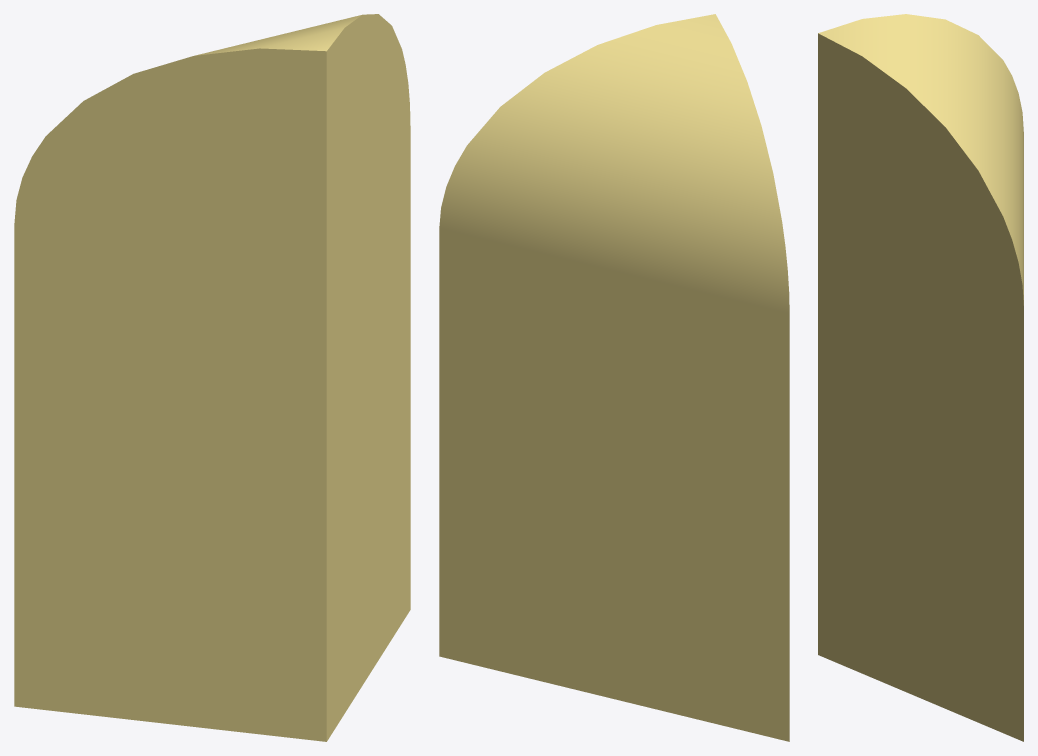
File: Corner_Corner.glb
3 views of the same model, side by side, from view 1: azimuth 30°, elevation 25°; view 2: azimuth 150°, elevation 25°; view 3: azimuth 270°, elevation 25° (orthographic). The views are drawn at different scales.
Parts seen in each view (by area): view 1: Corner_Corner; view 2: Corner_Corner; view 3: Corner_Corner.
Boxes of the visible parts, bbox=[...] form: Corner_Corner: bbox=[14, 14, 410, 741]; Corner_Corner: bbox=[439, 14, 789, 741]; Corner_Corner: bbox=[818, 14, 1023, 741].
Bounding box in the file's own units: 0.3 × 0.5 × 0.15.
